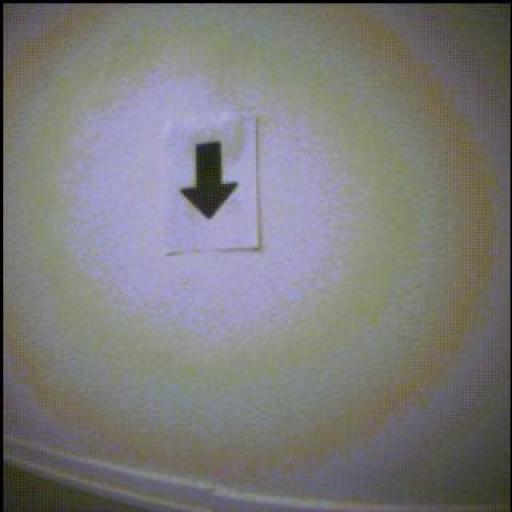Arrow: (182, 144, 238, 221)
